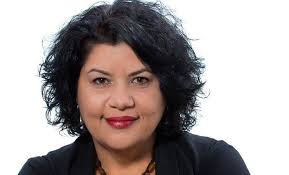black_female: (44, 4, 211, 161)
